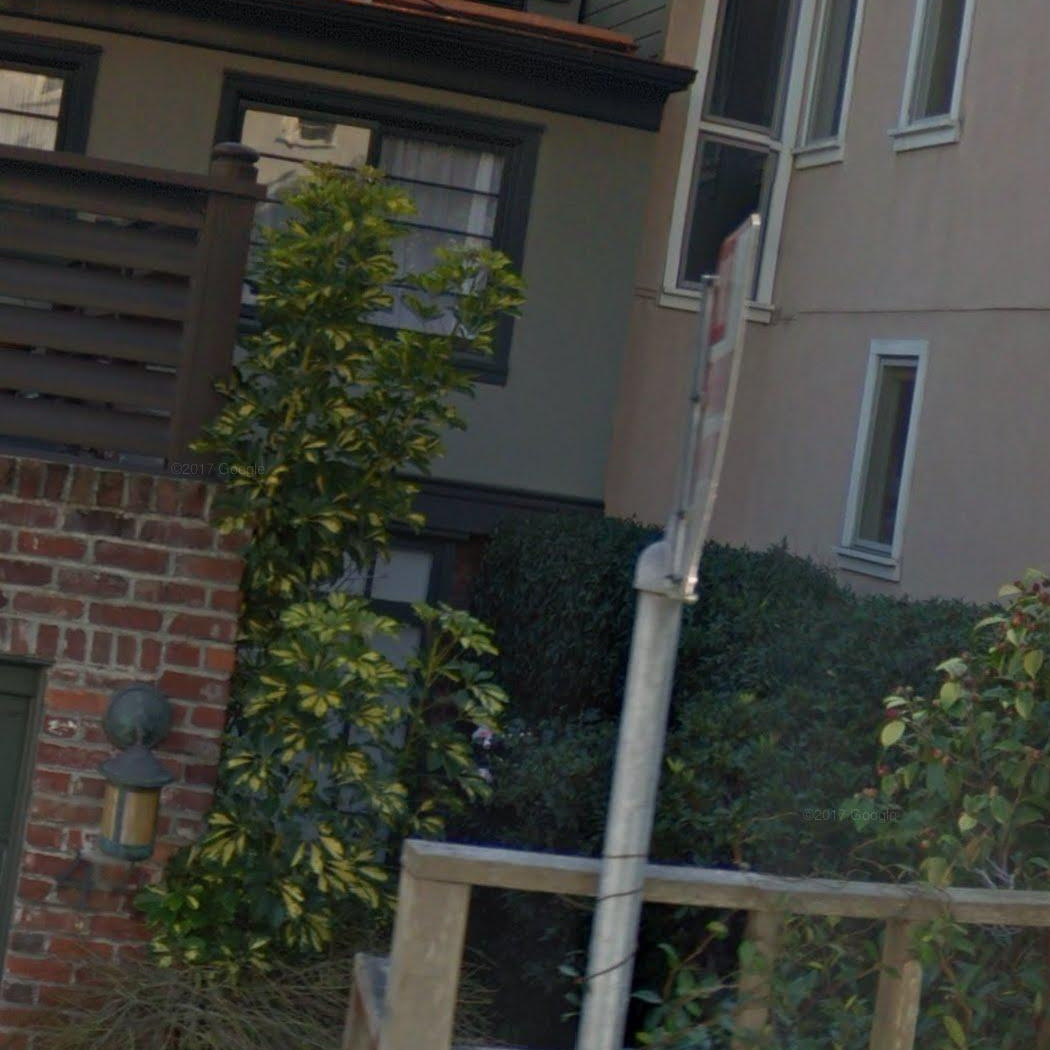No Parking: (666, 211, 767, 600)
